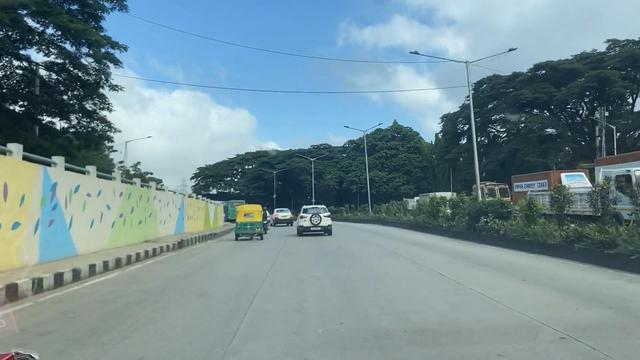LMV: (233, 208, 265, 237), (301, 207, 332, 232)
